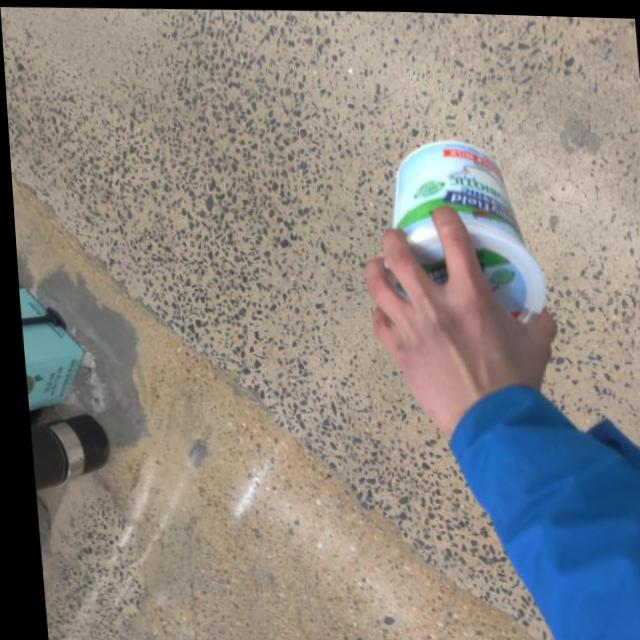Yogurt: (358, 113, 547, 357)
